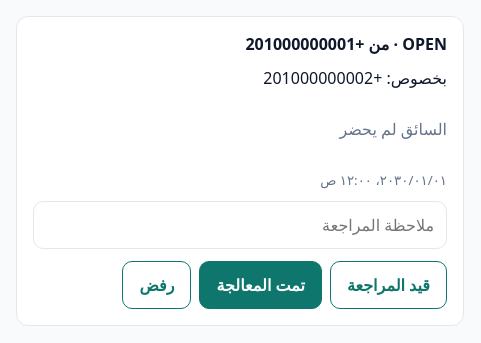
Test: AdminReports › reloads when the report was already closed elsewhere
This screenshot has width=481, height=343.
Click the button "تمت المعالجة" at (261,285), box left=199, top=261, right=322, bottom=309
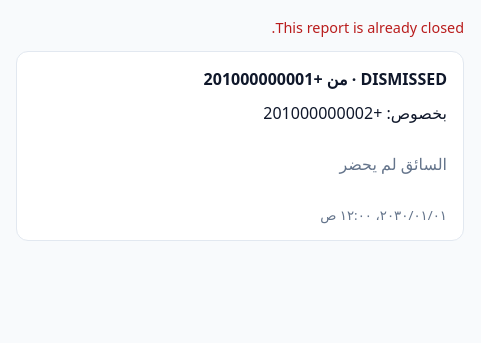
Now the text "already closed" is shown, box left=272, top=18, right=464, bottom=37
Now no buttons are shown
